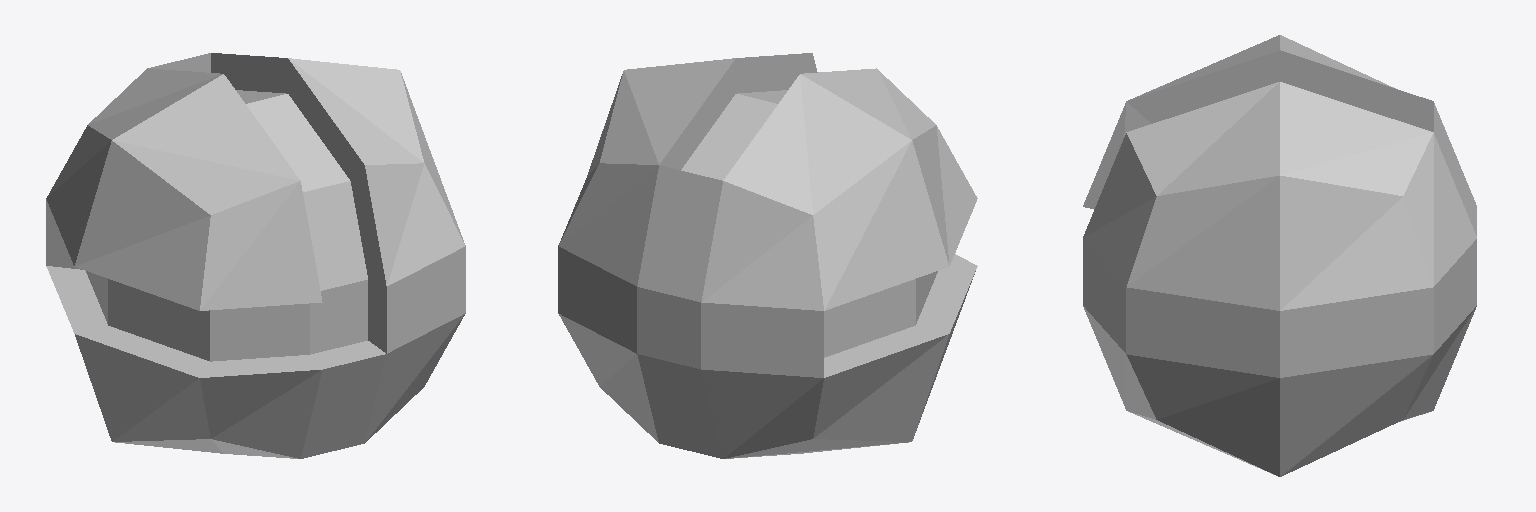
File: Orb_L.obj
3 views of the same model, side by side, from view 1: azimuth 30°, elevation 25°; view 2: azimuth 150°, elevation 25°; view 3: azimuth 270°, elevation 25° (orthographic).
Bounding box in the file's own units: 0.9327 × 0.9327 × 0.8779.